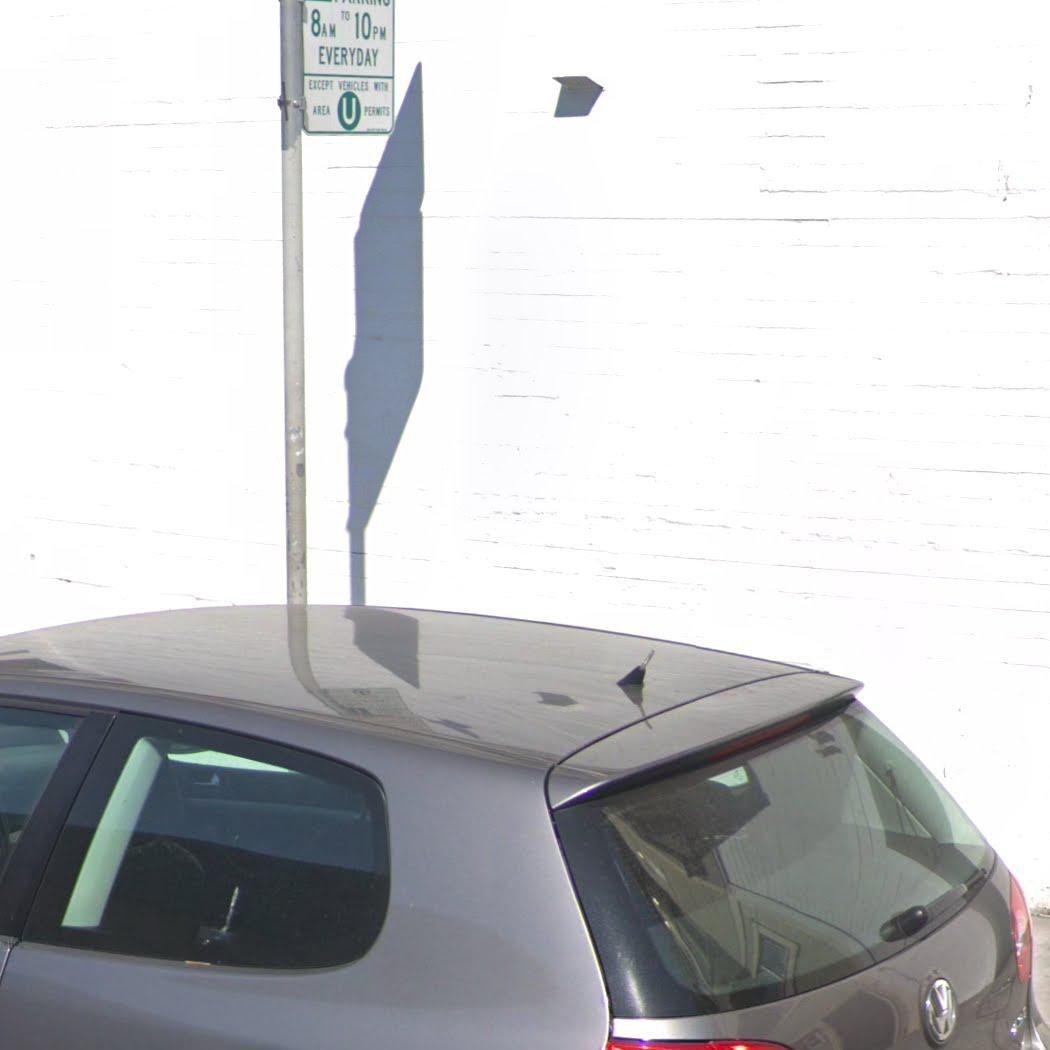2 Hour Parking: (302, 0, 396, 136)
